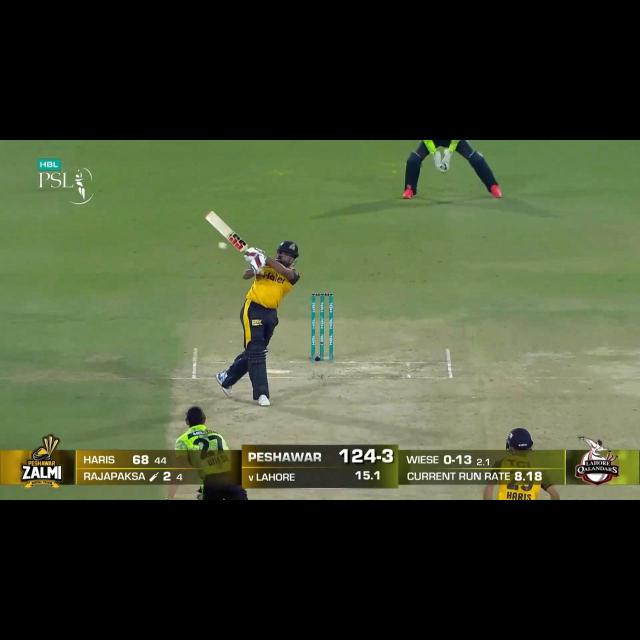bat: (205, 211, 248, 253)
toe: (205, 210, 218, 224)
